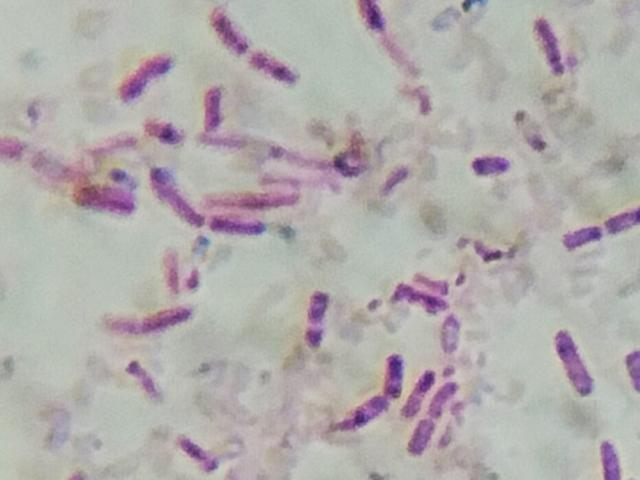E. coli: (357, 1, 429, 80), (203, 129, 328, 160), (6, 130, 80, 175), (551, 323, 593, 399), (111, 46, 170, 99), (383, 273, 455, 311), (106, 299, 183, 334), (202, 180, 305, 206), (532, 13, 577, 71), (512, 102, 554, 161), (295, 283, 333, 346), (205, 209, 277, 242), (585, 431, 633, 480), (71, 180, 138, 214), (178, 427, 220, 475), (249, 49, 305, 83), (209, 5, 251, 50), (162, 245, 199, 296), (156, 166, 190, 221), (601, 200, 640, 246), (462, 149, 513, 183), (556, 220, 599, 256), (345, 389, 379, 430), (405, 415, 435, 458), (381, 347, 406, 397), (410, 356, 435, 406), (431, 382, 462, 422), (126, 349, 158, 387), (621, 340, 640, 401), (196, 82, 226, 120), (146, 116, 187, 143)
